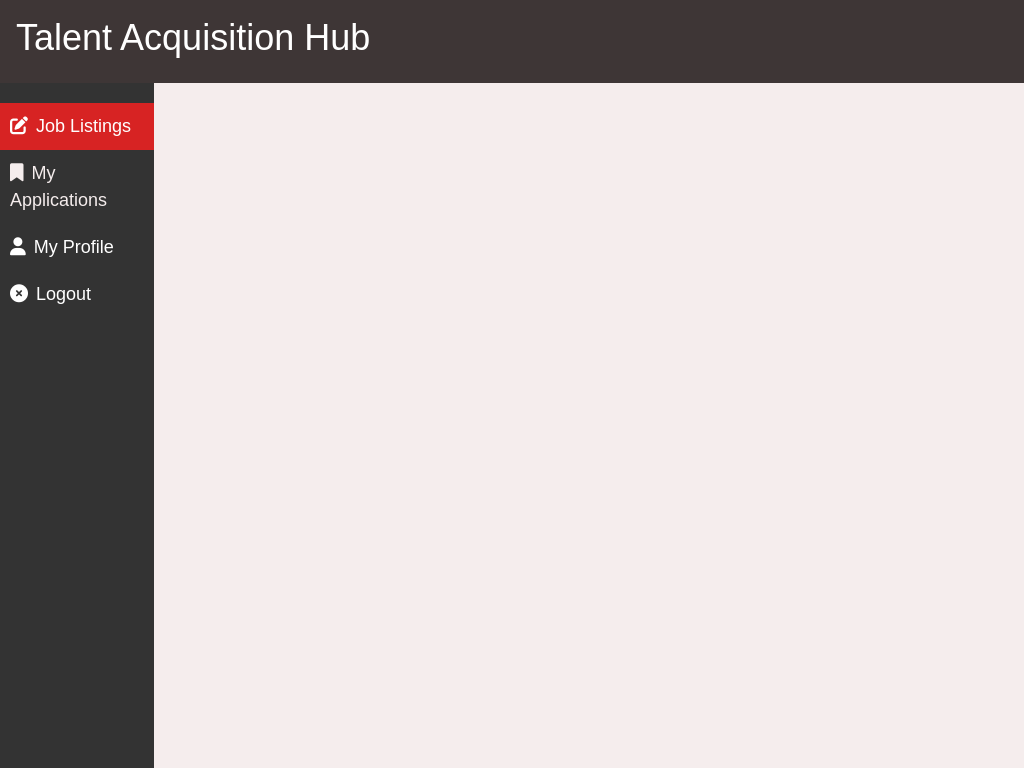
ListJobs Component › should navigate to My Applications modal
This screenshot has width=1024, height=768.
Click the link "My Applications".
click(59, 200)  # box [10, 163, 107, 210]
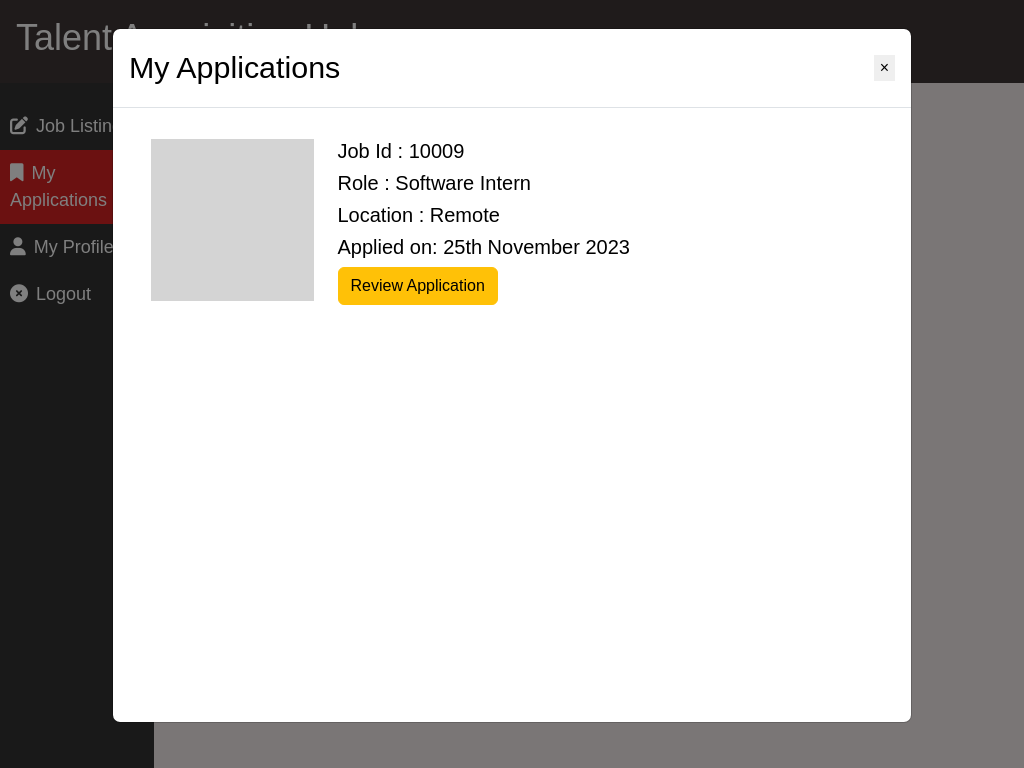
Result: the dialog with id "MyAppplications" is shown
